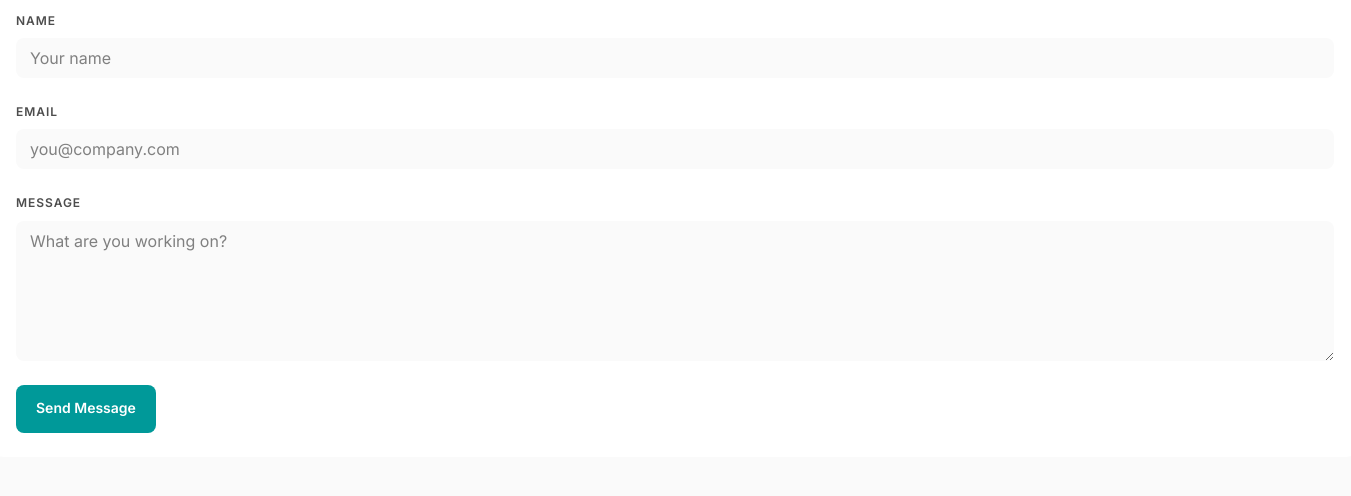
ContactForm - SPEC-021 acceptance criteria › AC6: stale server error is cleared when re-submitting with invalid fields
In the field labelled "Name": (675, 58) [16,38,1334,78], type "Jane Smith"
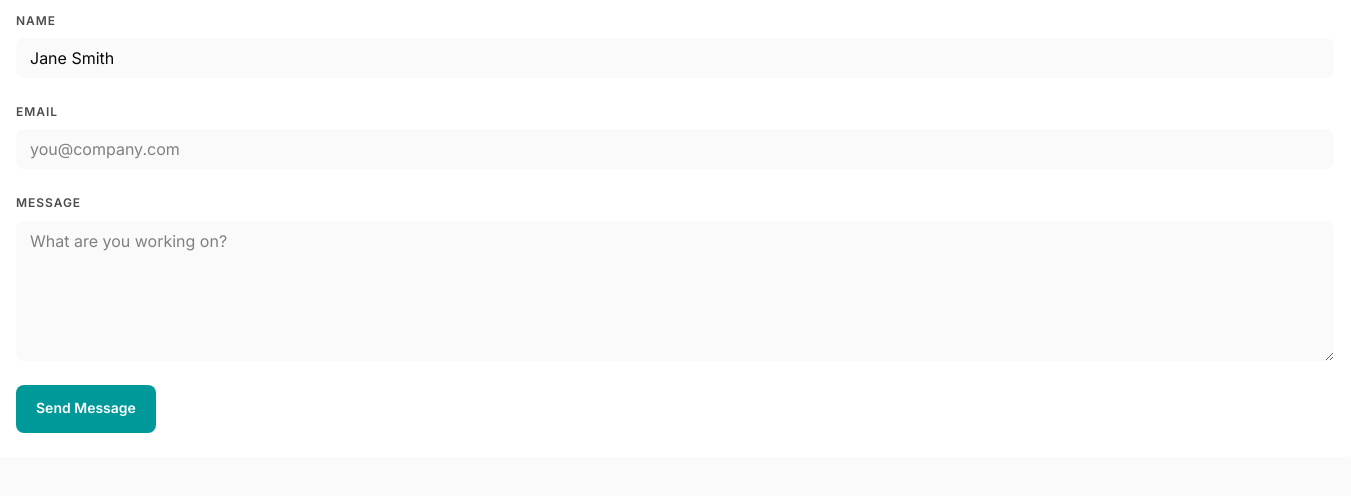
In the field labelled "Email": (675, 149) [16,129,1334,169], type "jane@example.com"
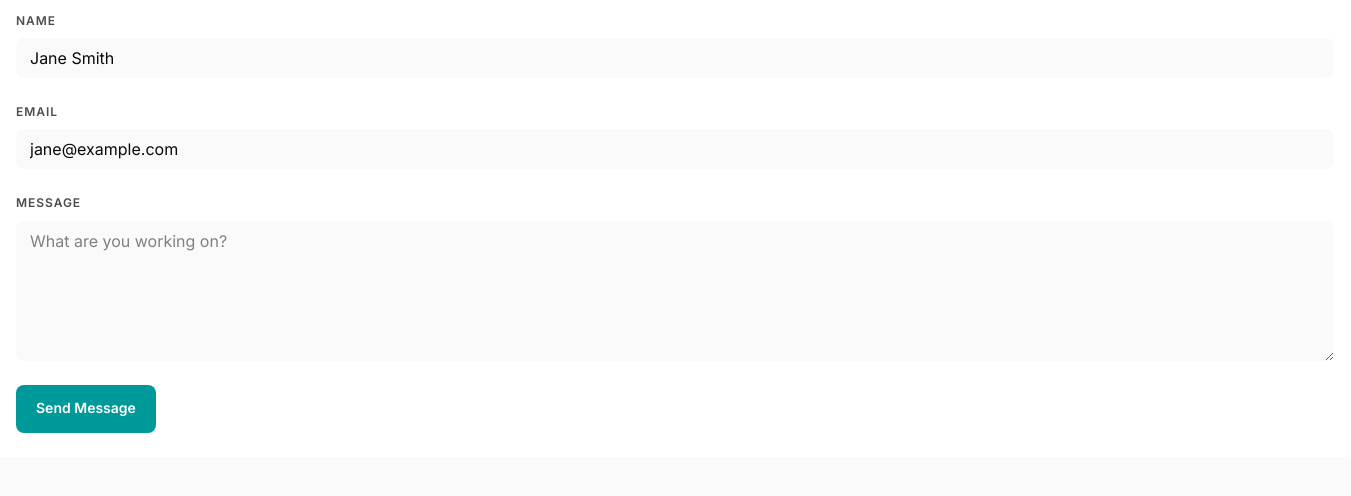
In the text box labelled "Message": (675, 291) [16,221,1334,361], type "Hello, I would like to discuss a project with you."
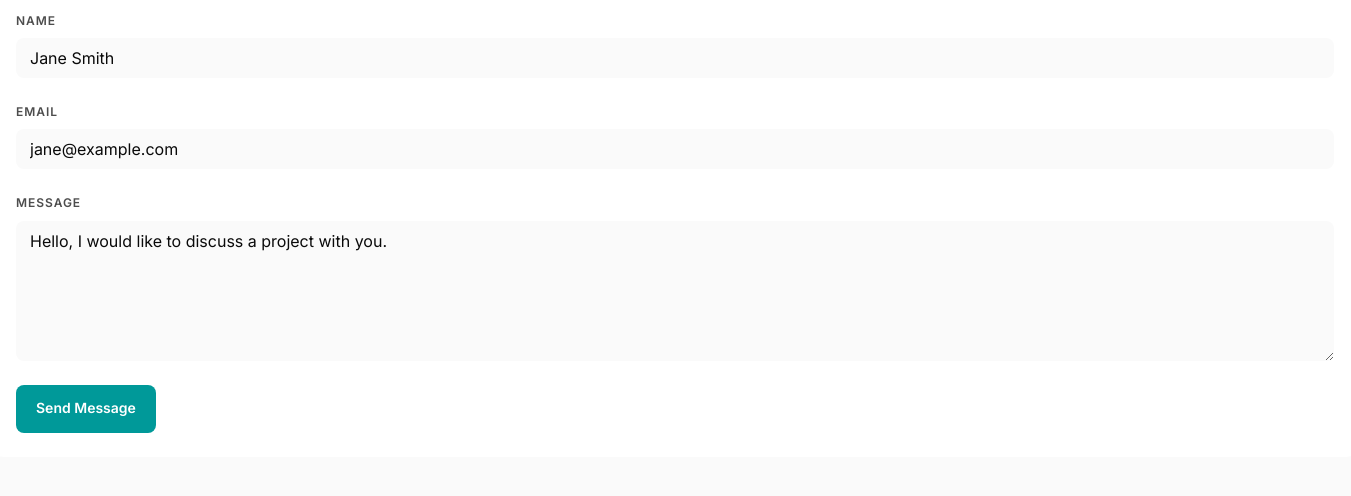
Click the button "Send Message": (86, 409) [16,385,156,433]
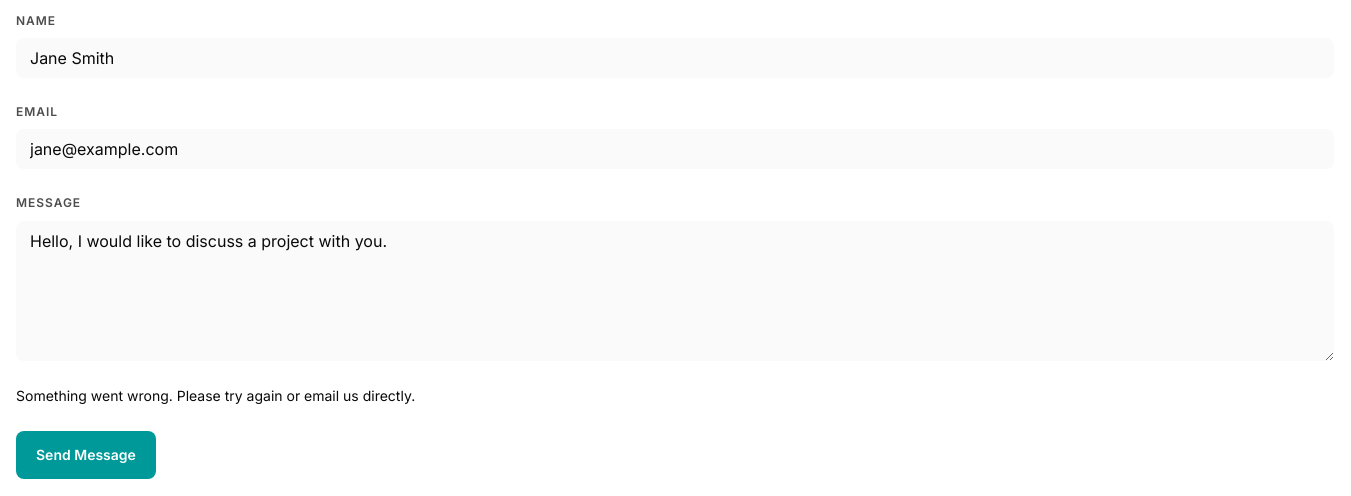
Result: the text "Something went wrong. Please try again or email us directly." is shown at [16,387,415,404]
Clear the field labelled "Name": (675, 58) [16,38,1334,78]
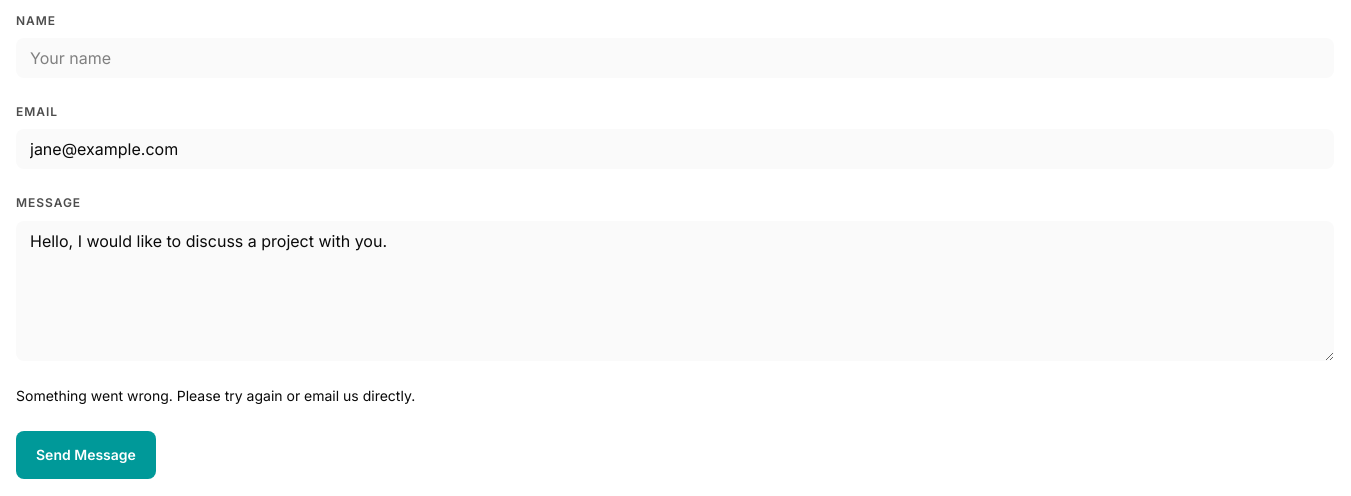
Click the button "Send Message": (86, 455) [16,431,156,479]
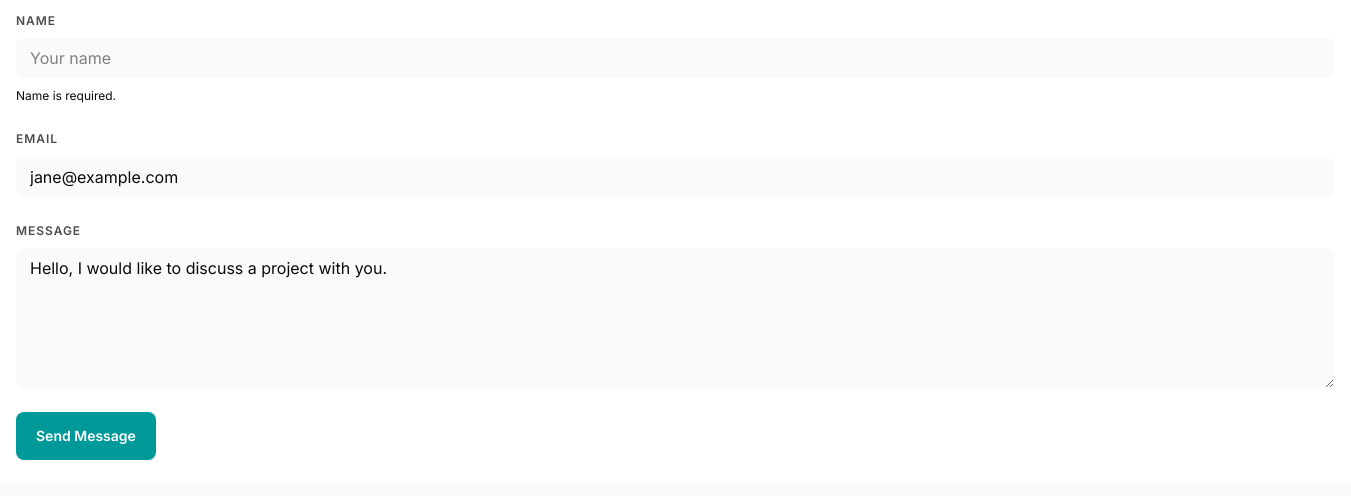
Result: the text "Something went wrong" is gone
Result: the text "Name is required." is shown at [16,88,116,103]
